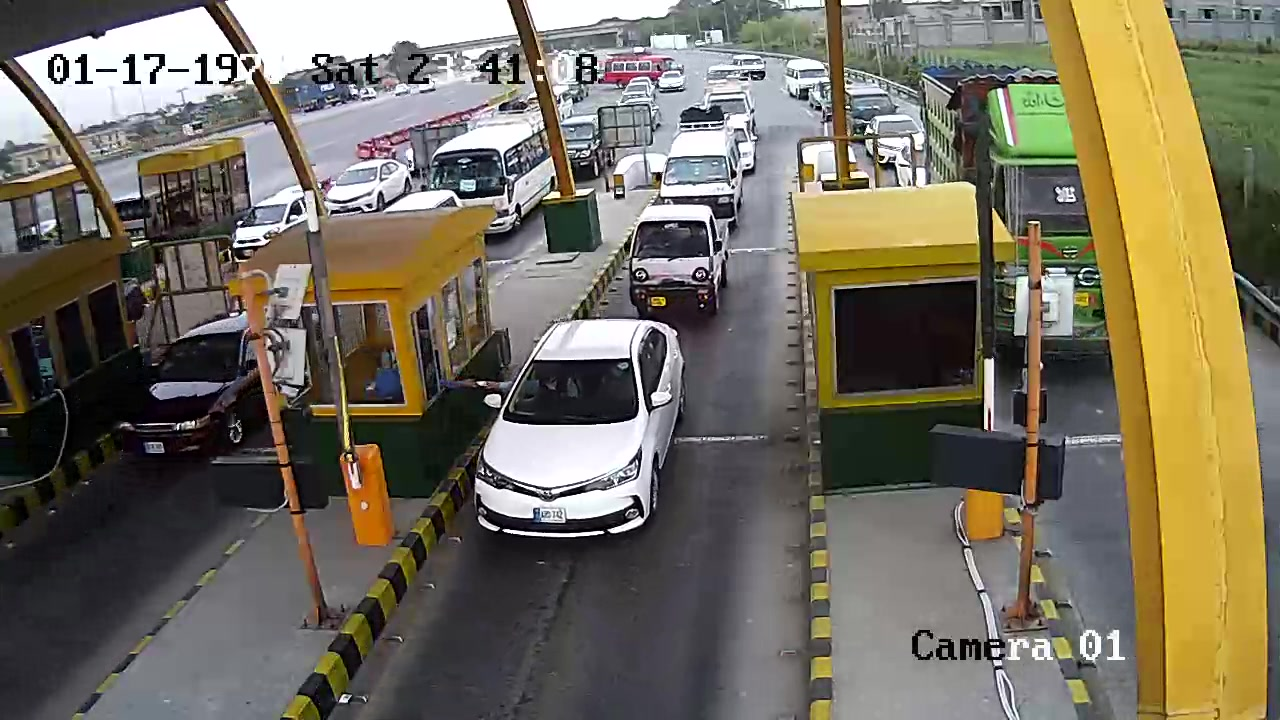F1: (468, 311, 694, 571)
